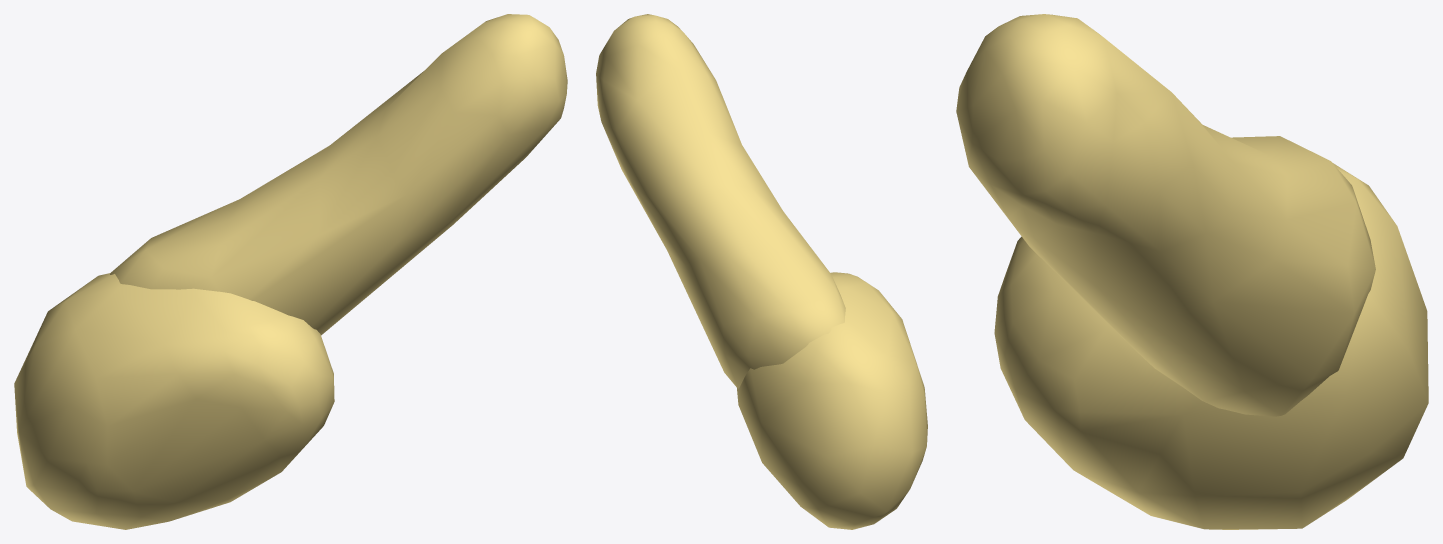
The picture shows the model from 3 angles, left to right: view 1: azimuth 30°, elevation 25°; view 2: azimuth 150°, elevation 25°; view 3: azimuth 270°, elevation 25°; orthographic projection. The views are drawn at different scales.
Parts seen in each view (by area): view 1: ZA_00127d04d737063f; view 2: ZA_00127d04d737063f; view 3: ZA_00127d04d737063f.
Boxes of the visible parts, x1,y1,x2,y2 form: ZA_00127d04d737063f: (14,14,567,529); ZA_00127d04d737063f: (596,14,927,529); ZA_00127d04d737063f: (956,14,1428,529).
Bounding box in the file's own units: 0.0141 × 0.0141 × 0.00825.
